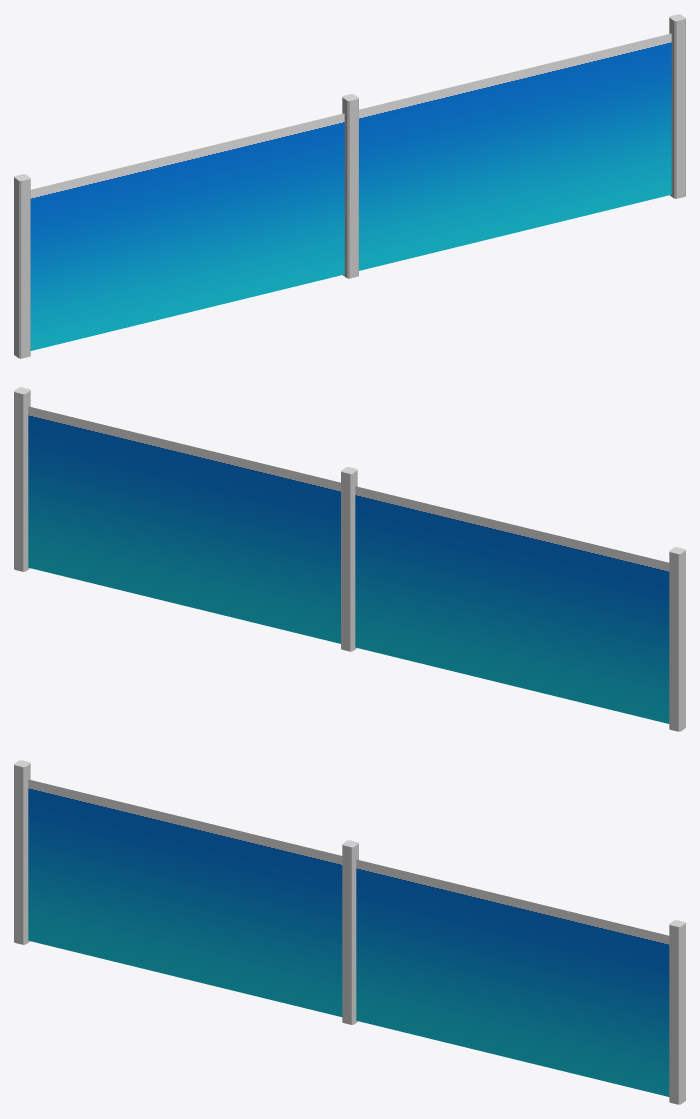
File: Sticks.fbx
The picture shows the model from 3 angles, top to bottom: view 1: azimuth 30°, elevation 25°; view 2: azimuth 150°, elevation 25°; view 3: azimuth 330°, elevation 25°; orthographic projection.
Parts seen in each view (by area): view 1: Plane, Sticks; view 2: Plane, Sticks; view 3: Plane, Sticks.
Boxes of the visible parts, x1=… form: Plane: x1=30, y1=33, x2=671, y2=350; Sticks: x1=14, y1=14, x2=685, y2=358; Plane: x1=28, y1=406, x2=669, y2=723; Sticks: x1=14, y1=387, x2=685, y2=731; Plane: x1=28, y1=779, x2=669, y2=1096; Sticks: x1=14, y1=760, x2=685, y2=1104.
Bounding box in the file's own units: 418 × 106 × 7.41.
